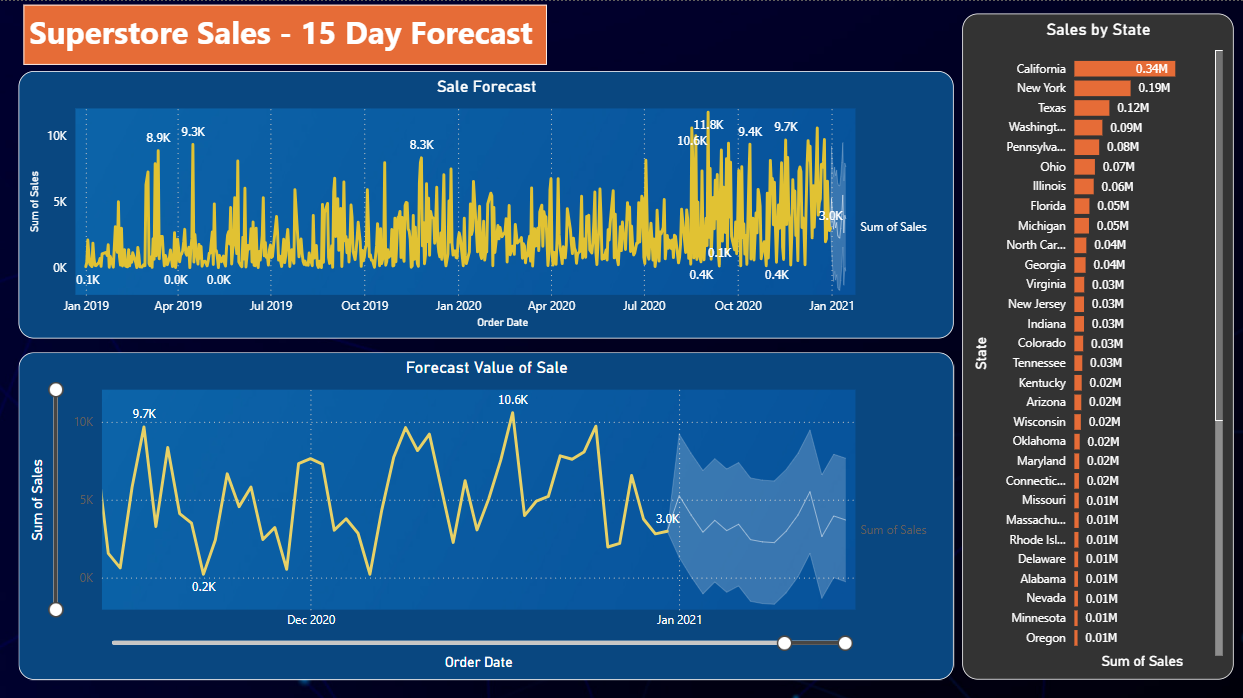

What the dashboard file says about the page in this screenshot:
{"tool":"powerbi","page":{"name":"Page 2","canvas":[1280,720],"ordinal":1},"visuals":[{"type":"lineChart","title":"Sale Forecast","fields":{"Y":["Sum(Sheet1.Sales)"],"Category":["Sheet1.Order Date"]},"box":[23.1,71.8,959,274.4],"z":0},{"type":"lineChart","title":"Forecast Value of Sale","fields":{"Y":["Sum(Sheet1.Sales)"],"Category":["Sheet1.Order Date"]},"box":[23.1,360.3,959,335.9],"z":1000},{"type":"clusteredBarChart","title":"Sales by State","fields":{"Y":["Sum(Sheet1.Sales)"],"Category":["Sheet1.State"]},"box":[991,12.8,278.2,683.3],"z":2000},{"type":"textbox","box":[28.2,3.8,537.2,61.5],"z":3000}]}

Visuals, with their boxes in screenshot pixels (x1, y1, x2, y2), scaled from the page's 1280x720 canvas onto the 1243x698 screenshot:
"Sale Forecast" lineChart: BBox(22, 70, 954, 336)
"Forecast Value of Sale" lineChart: BBox(22, 349, 954, 675)
"Sales by State" clusteredBarChart: BBox(962, 12, 1233, 675)
textbox: BBox(27, 4, 549, 63)
